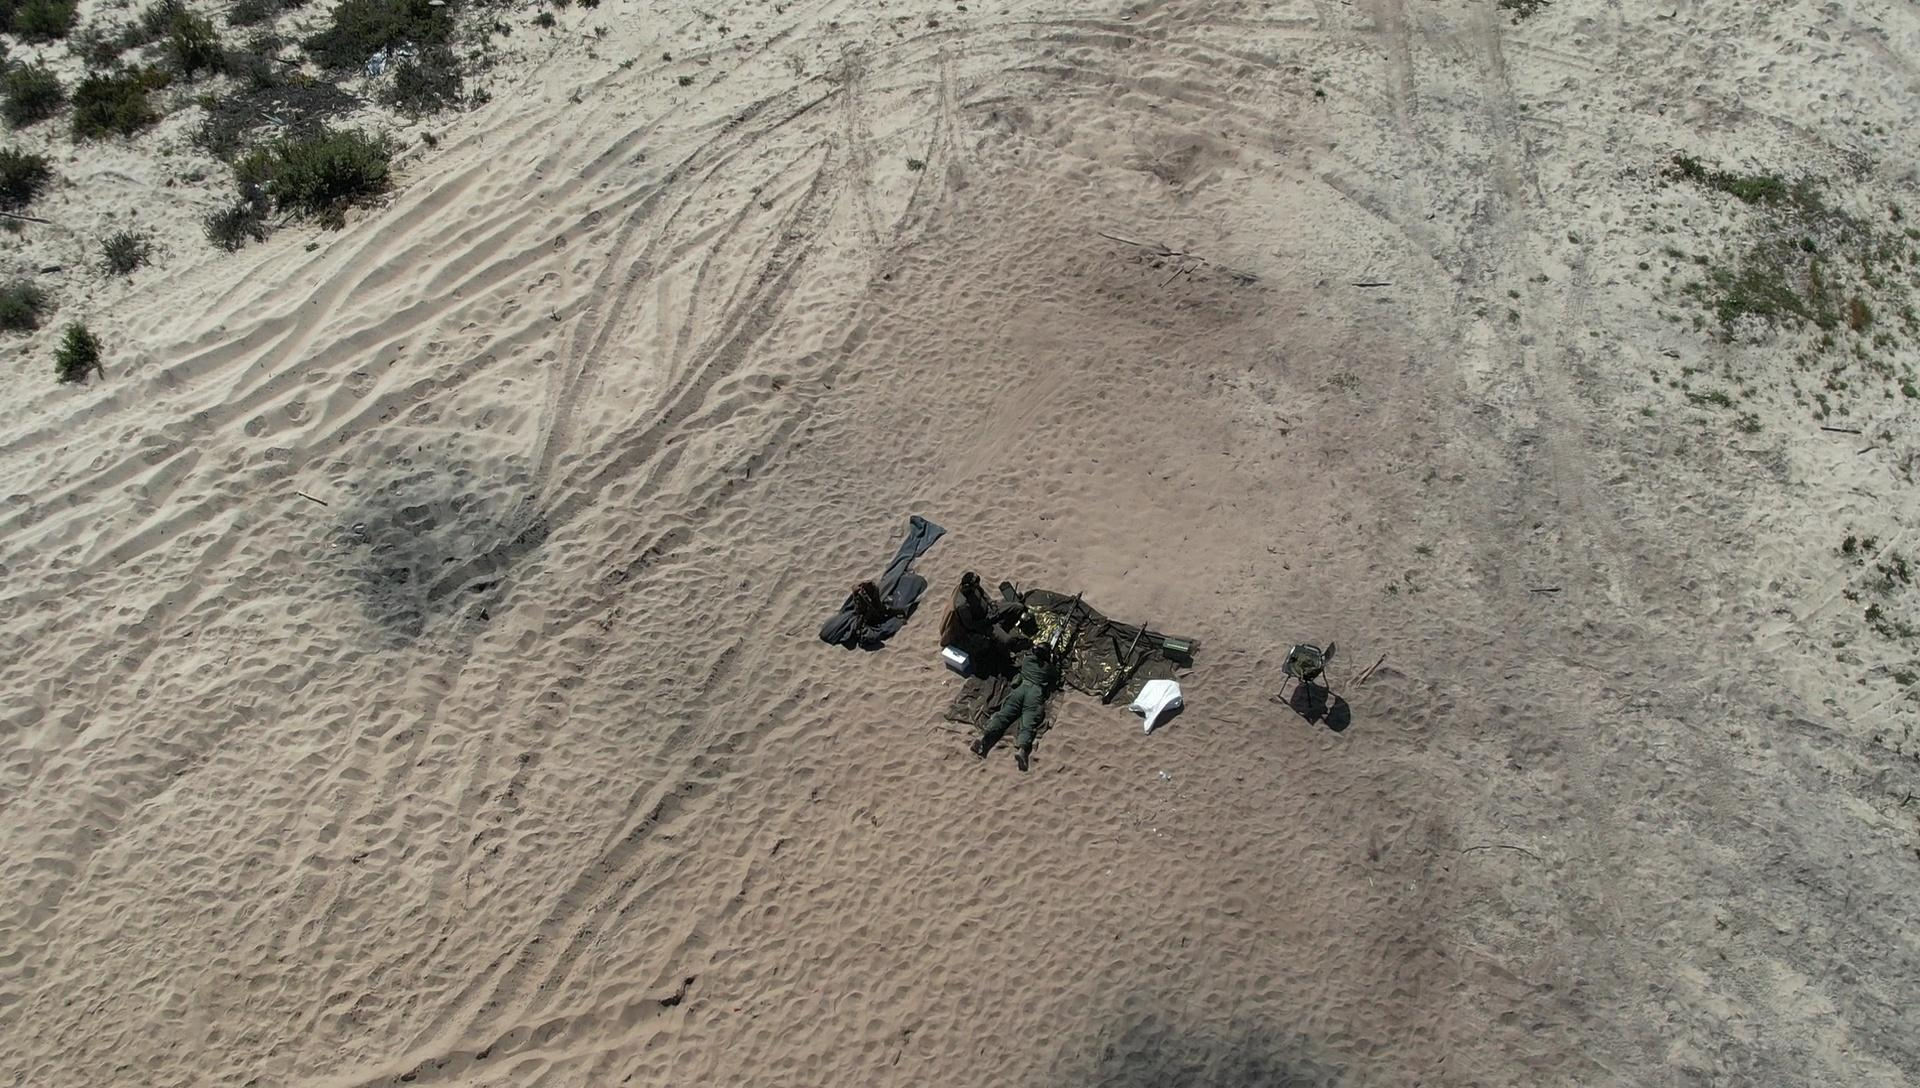Soldier: (978, 619, 1062, 758), (945, 570, 1017, 665)
